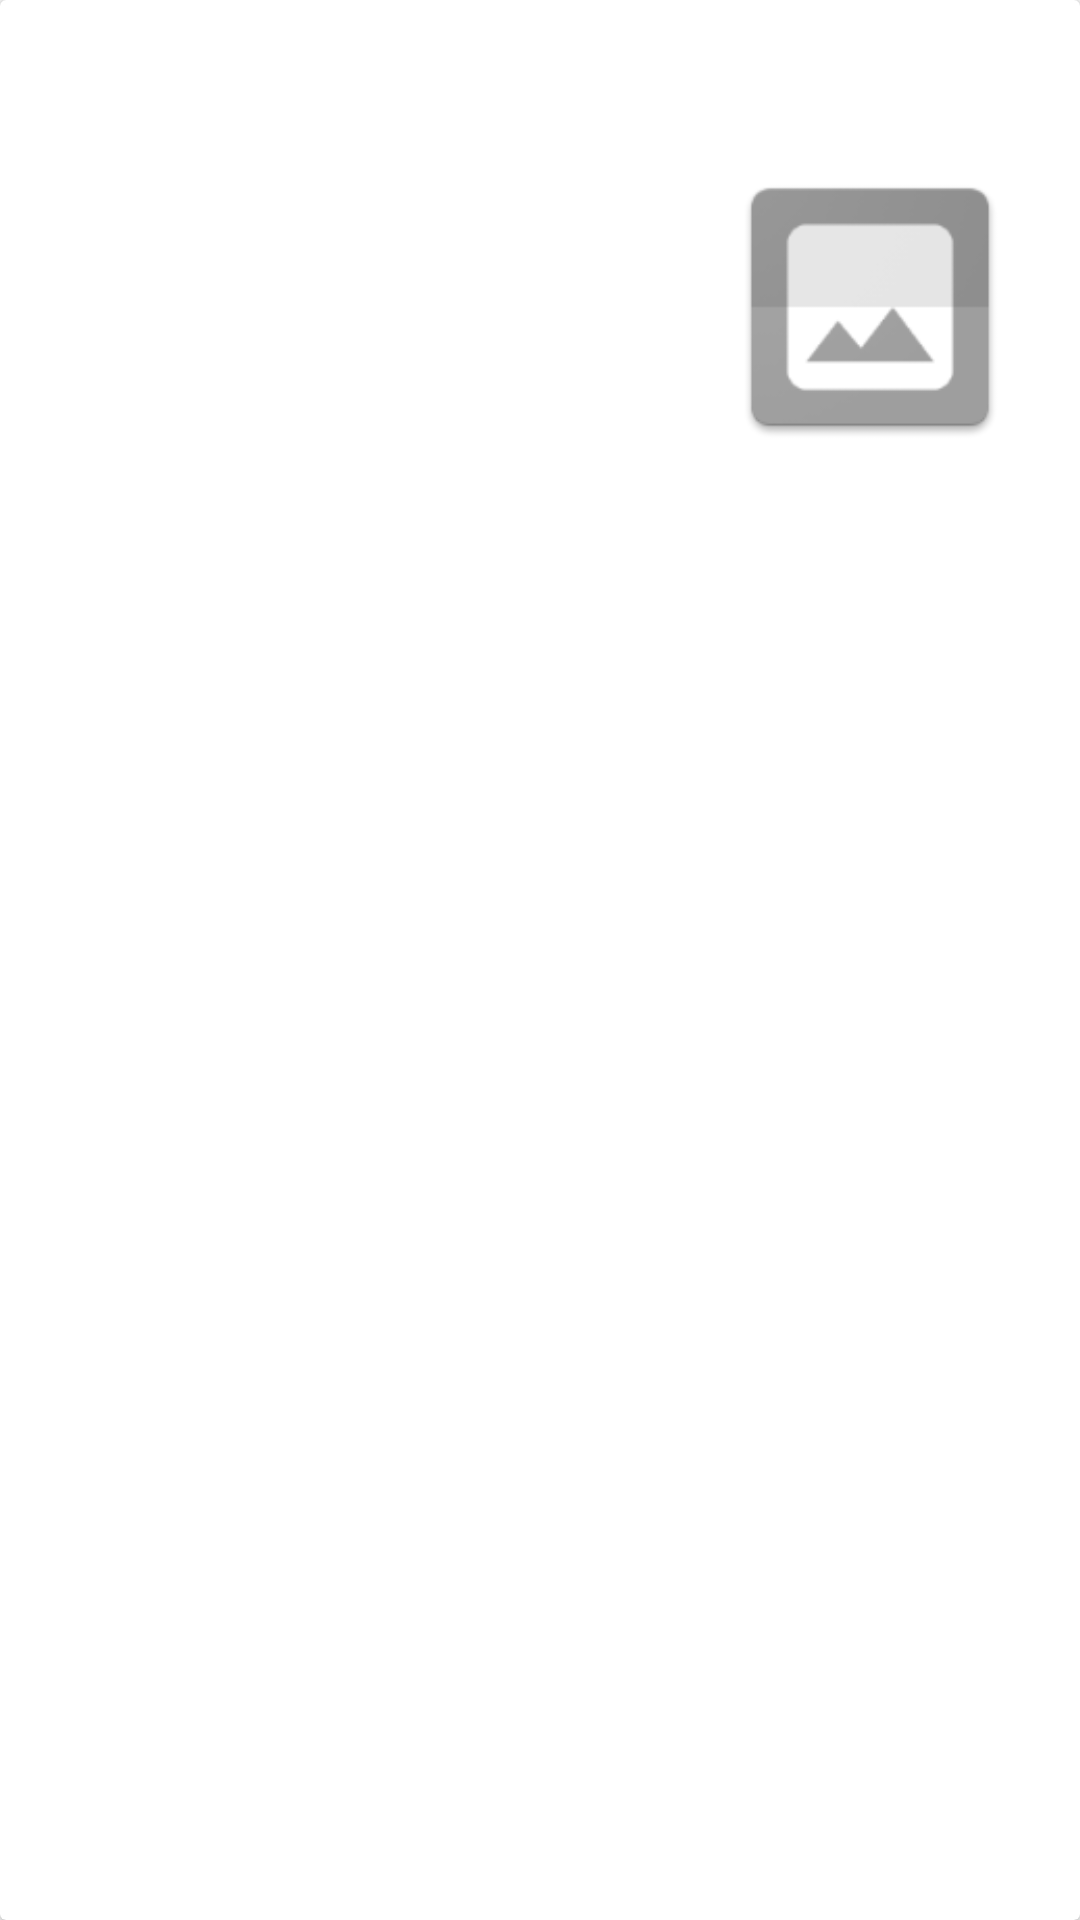

Point at icon controls on the screen. Image size 1080*1920, points as (x=x, y=y).
place holder images: (x=870, y=310)
